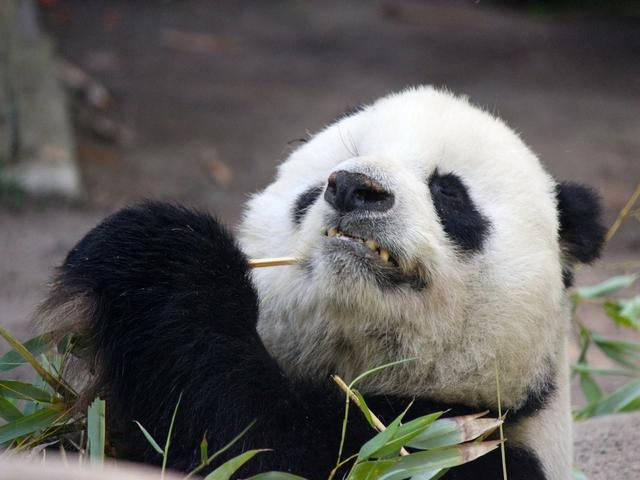panda: (19, 48, 607, 472)
